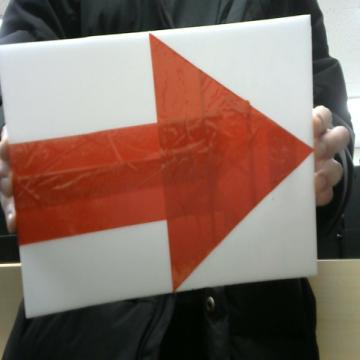red_right: (11, 33, 312, 290)
